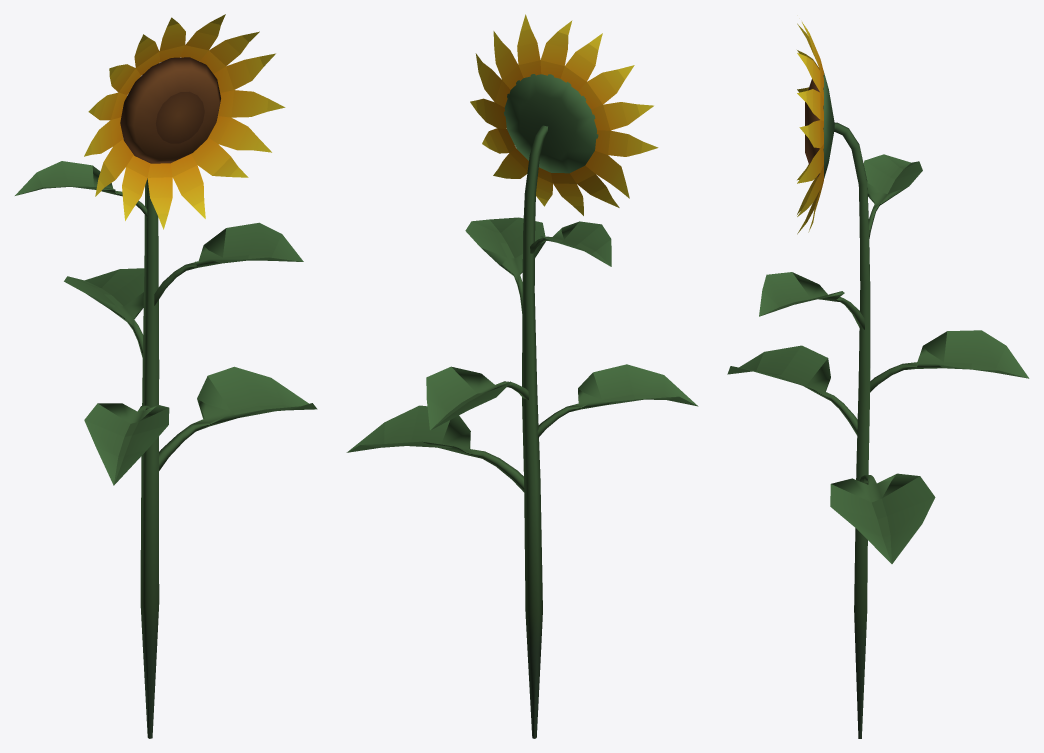
The model's file is plants-flowers-sunflower_v4.glb.
3 views of the same model, side by side, from view 1: azimuth 30°, elevation 25°; view 2: azimuth 150°, elevation 25°; view 3: azimuth 270°, elevation 25° (orthographic). The views are drawn at different scales.
Parts seen in each view (by area): view 1: Sunflower_v4; view 2: Sunflower_v4; view 3: Sunflower_v4.
Boxes of the visible parts, bbox=[...] form: Sunflower_v4: bbox=[15, 14, 317, 738]; Sunflower_v4: bbox=[346, 14, 698, 738]; Sunflower_v4: bbox=[727, 22, 1029, 738].
Bounding box in the file's own units: 0.823 × 2 × 0.7683.
